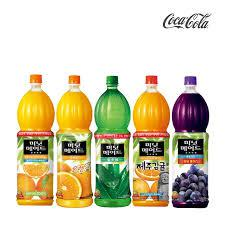minutemaid_org_orange: (16, 71, 56, 209)
